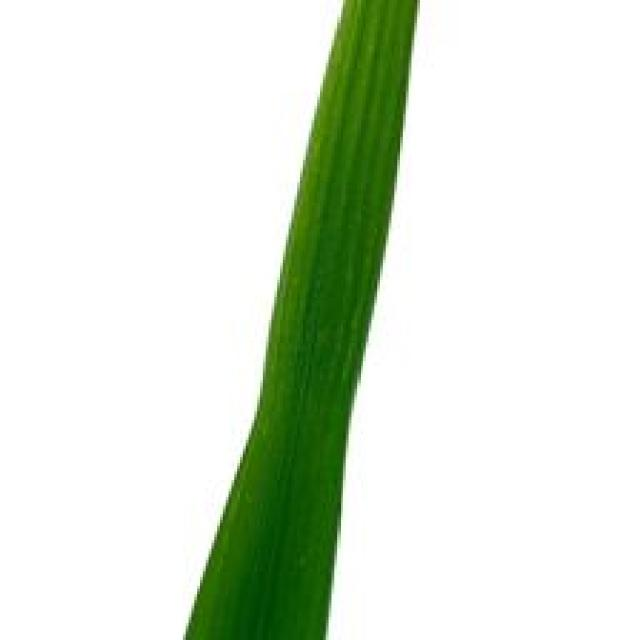Rice___Healthy_Rice_Plant: (181, 0, 420, 637)
